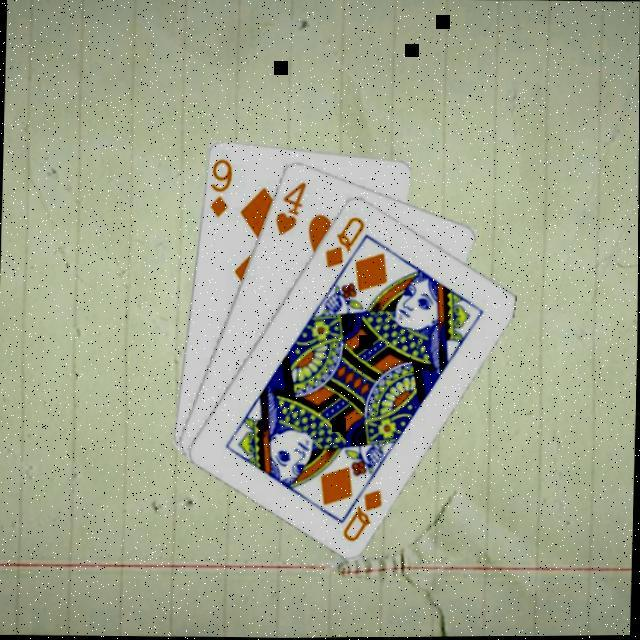4H: (270, 179, 307, 240)
9D: (204, 157, 232, 221)
QD: (337, 487, 384, 546), (319, 214, 365, 273)
